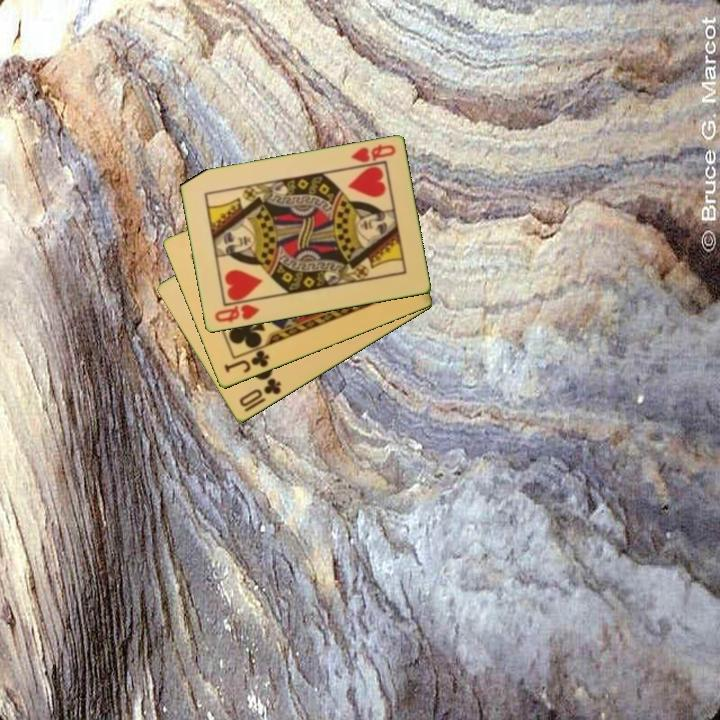10c: (235, 375, 284, 410)
Jc: (220, 347, 272, 376)
Qh: (347, 141, 398, 166), (211, 301, 262, 325)
